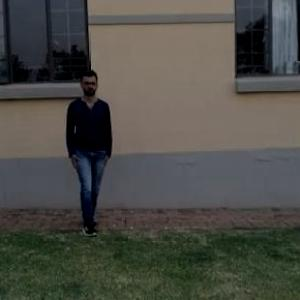follow: (66, 68, 114, 229)
